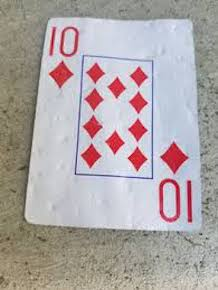TenOfDiamonds: (22, 13, 207, 233)
